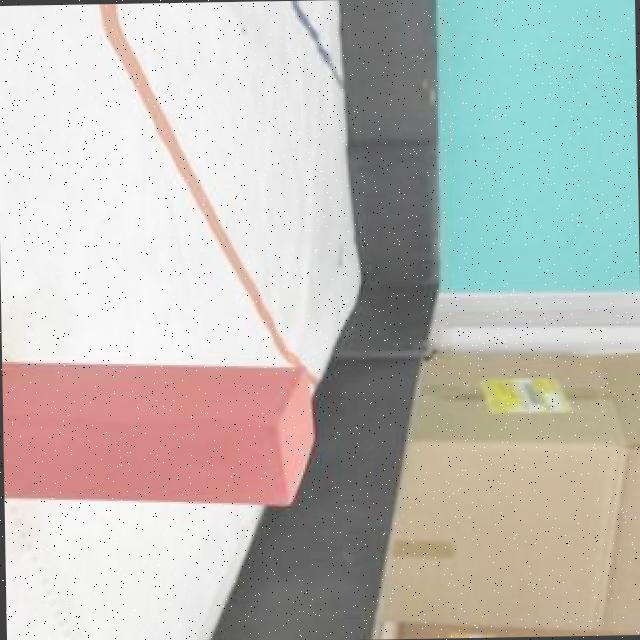redbox: (1, 356, 318, 511)
